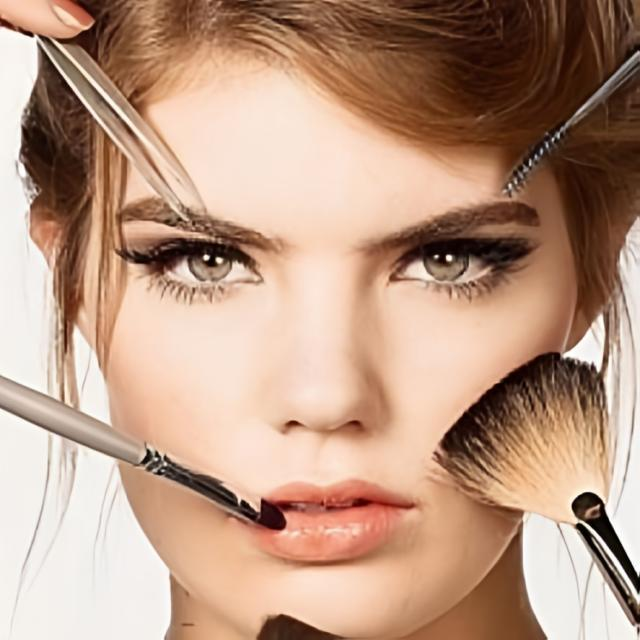anger: (117, 57, 574, 626)
